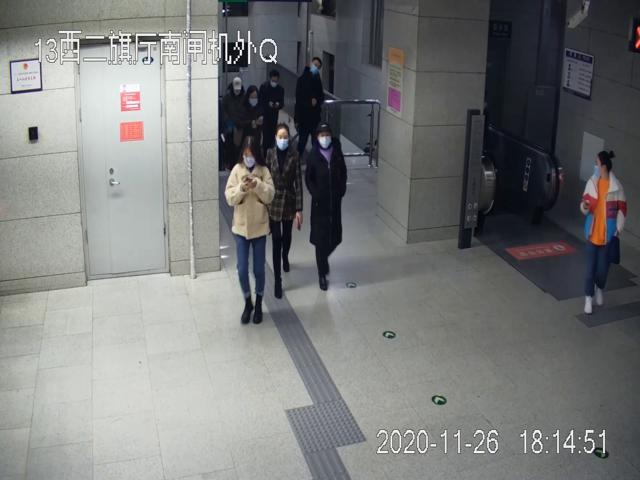person: (224, 135, 275, 323), (266, 122, 305, 300), (304, 124, 346, 289), (582, 152, 627, 302), (295, 55, 324, 160)
